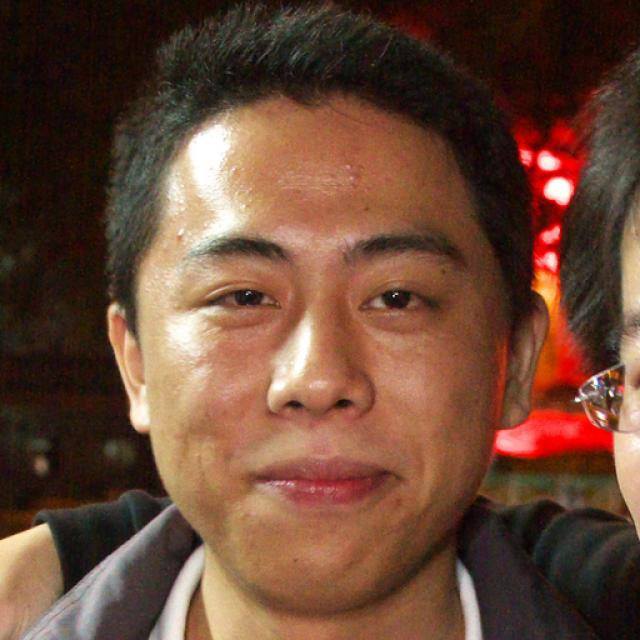Acne: (333, 156, 366, 190), (222, 159, 241, 188), (164, 222, 187, 244), (235, 199, 253, 218)
